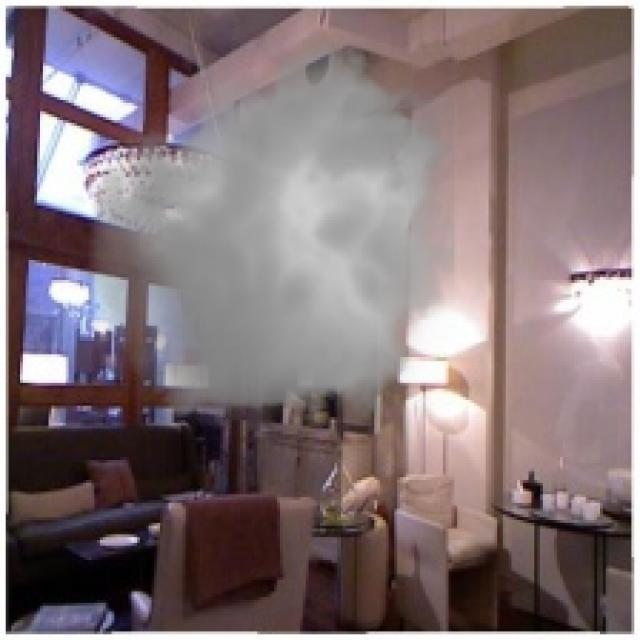smoke: (77, 29, 474, 437)
